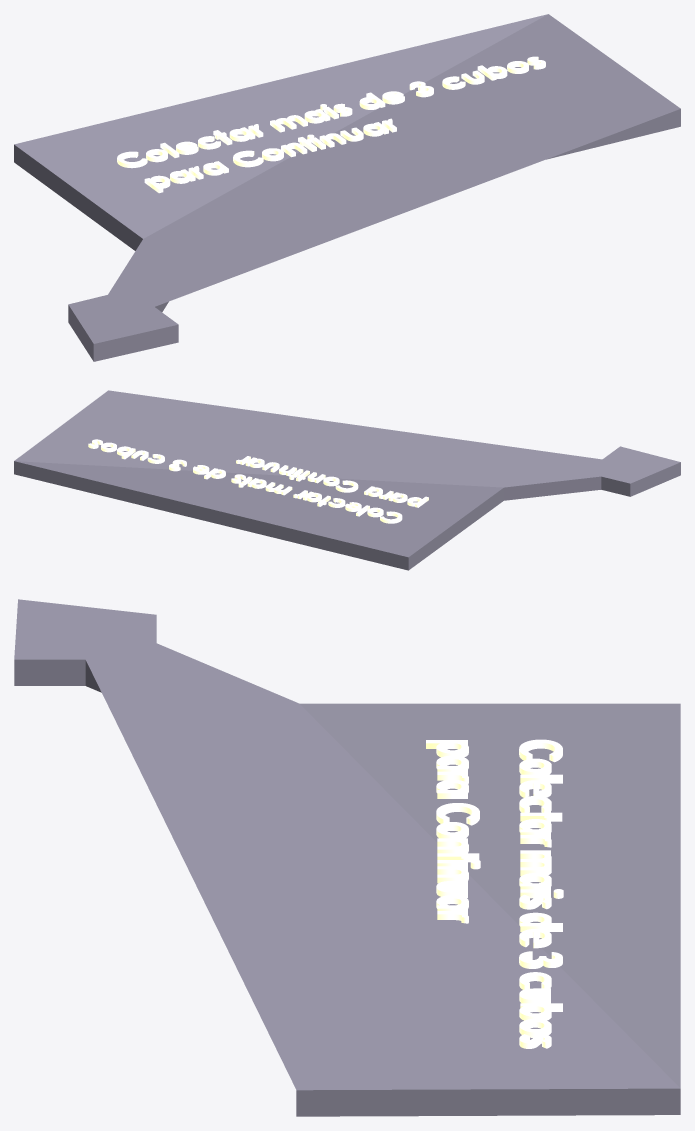
File: Placa_LED.fbx
3 views of the same model, one above another, from view 1: azimuth 30°, elevation 25°; view 2: azimuth 150°, elevation 25°; view 3: azimuth 270°, elevation 25° (orthographic). The views are drawn at different scales.
Parts seen in each view (by area): view 1: Sinal, Texto; view 2: Sinal, Texto; view 3: Sinal, Texto.
Boxes of the visible parts, x1,y1,x2,y2 form: Sinal: (14, 14, 680, 361); Texto: (117, 56, 545, 193); Sinal: (14, 390, 680, 570); Texto: (88, 439, 428, 523); Sinal: (14, 599, 680, 1116); Texto: (426, 739, 563, 1048).
Size of the model in its own units: 330 by 10.07 by 189.
